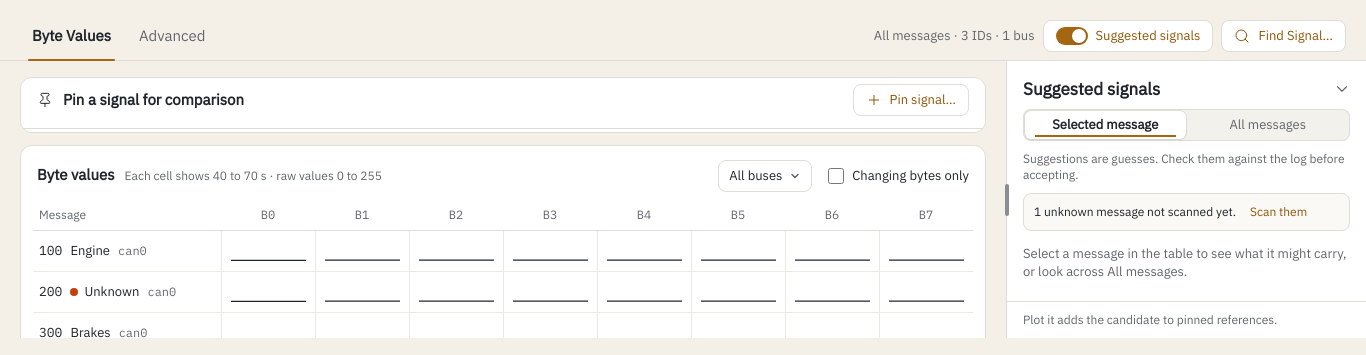
Test: Byte Values › hides a message whose bytes never change with Changing bytes only, known or not
Click the checkbox labelled "Changing bytes only": (836, 176) [828, 168, 844, 184]
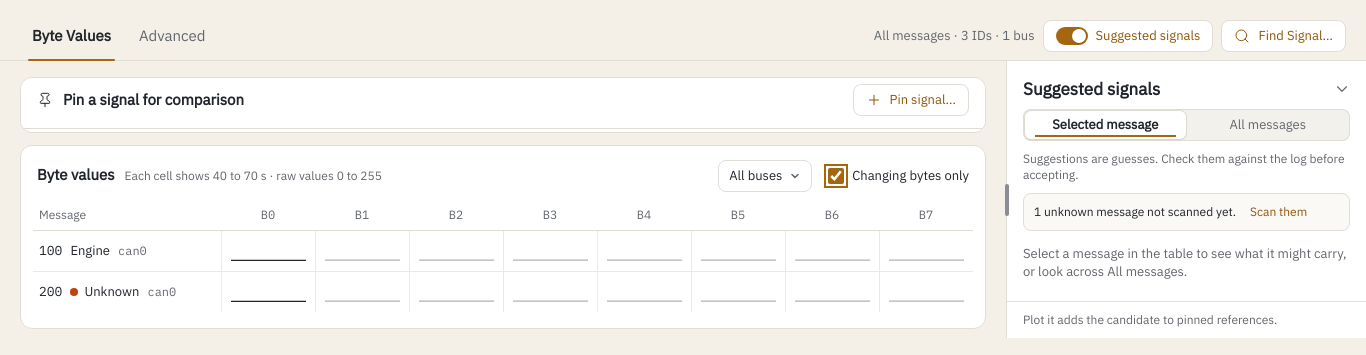
Expected: the text "100" is shown, [39, 242, 62, 260]
Expected: the text "Engine" is shown, [70, 242, 110, 260]
Click the checkbox labelled "Changing bytes only": (836, 176) [828, 168, 844, 184]
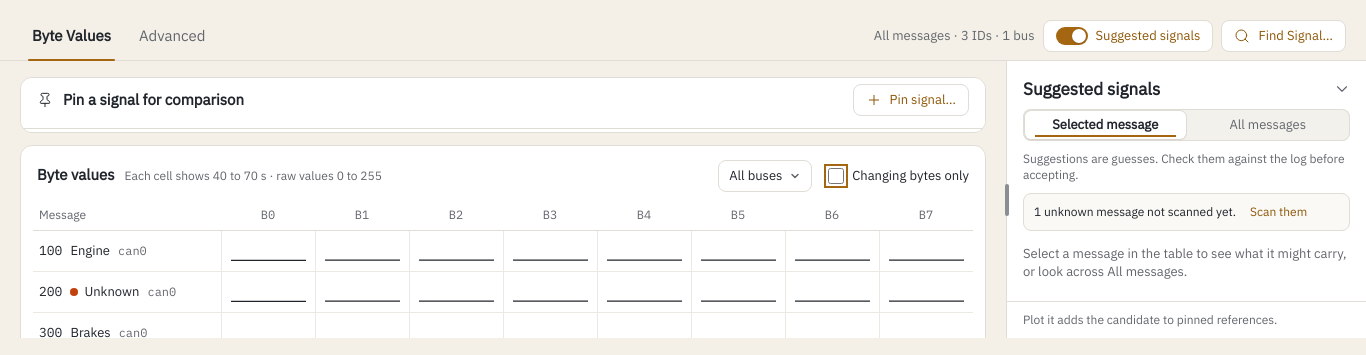
Expected: the text "100" is shown, [39, 242, 62, 260]
Expected: the text "300" is shown, [39, 324, 62, 338]
Expected: the text "Brakes" is shown, [70, 324, 111, 338]
